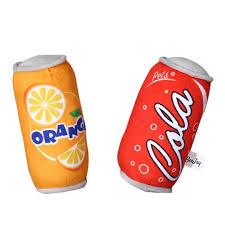can: (116, 56, 210, 200), (9, 54, 95, 196)
